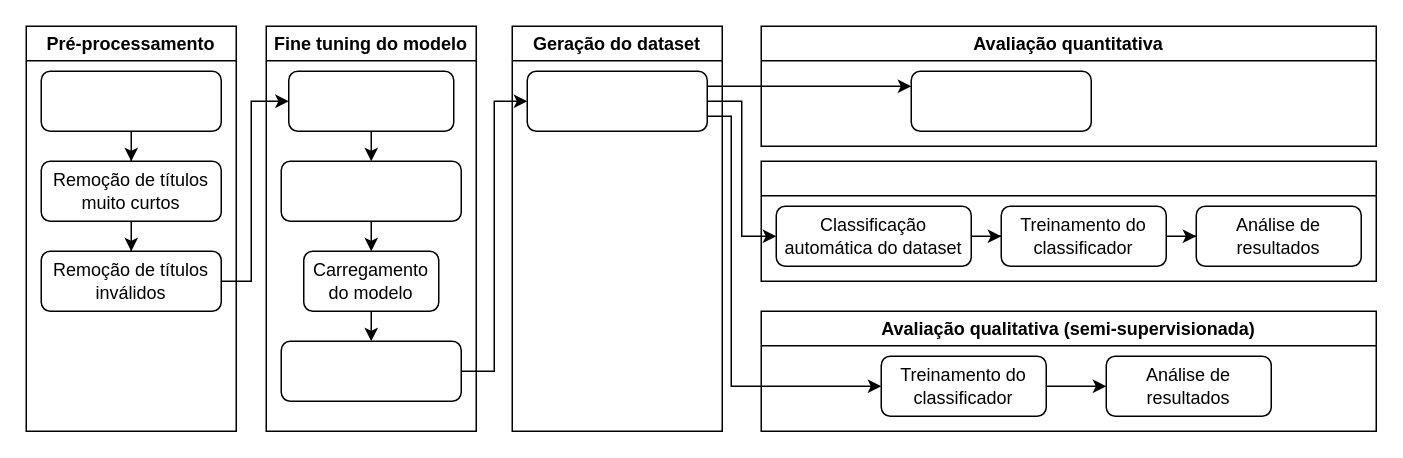
Image size: 1403x458. Some labels were removed from this diagram. Each missing label, with the box of its shape:
Avaliação qualitativa (supervisionada): (760, 160, 1376, 281)
Carregamento do Tokenizador: (287, 70, 454, 131)
Cáculo de Perplexidade: (910, 70, 1091, 131)
Divisão dos dados em treinamento/teste: (280, 160, 461, 221)
Fine tunning do modelo: (280, 340, 461, 401)
Geração do dataset (inferência): (526, 70, 707, 131)
Remoção de duplicatas: (40, 70, 221, 131)
